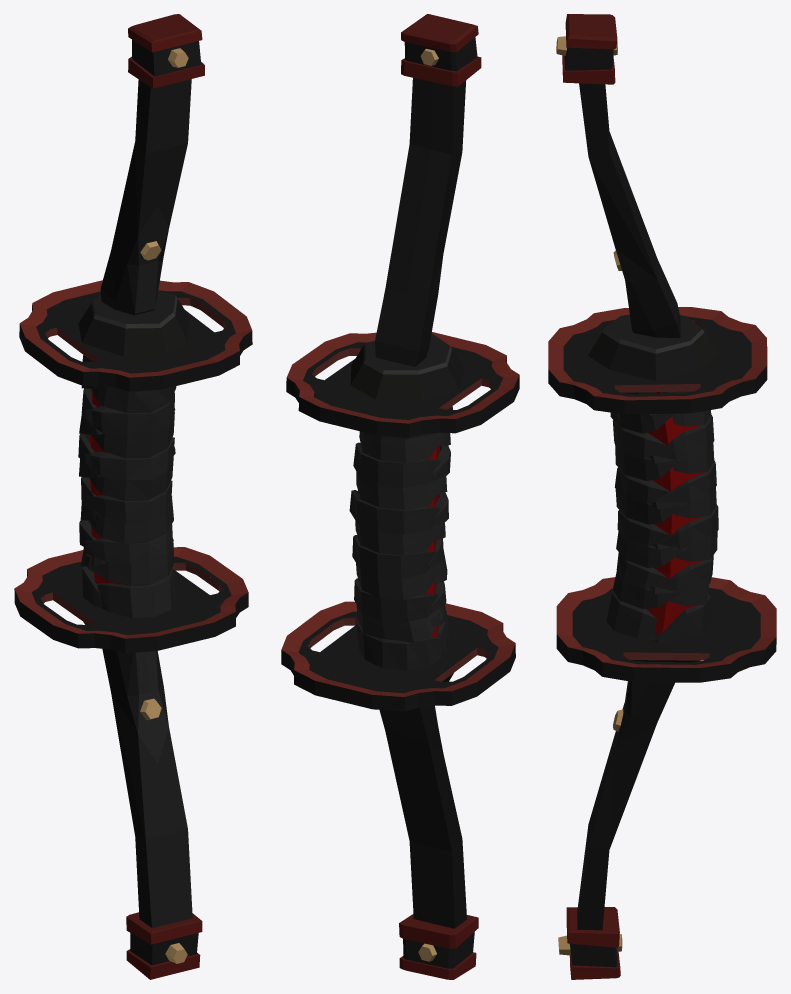
Rendered from smallBowSamuraiSimpleHandle.glb.
3 views of the same model, side by side, from view 1: azimuth 30°, elevation 25°; view 2: azimuth 150°, elevation 25°; view 3: azimuth 270°, elevation 25° (orthographic).
Visible parts, largest first — view 1: smallBowSamuraiSimpleHandle; view 2: smallBowSamuraiSimpleHandle; view 3: smallBowSamuraiSimpleHandle.
Boxes of the visible parts, left/top/right/bottom form: smallBowSamuraiSimpleHandle: left=14, top=14, right=252, bottom=979; smallBowSamuraiSimpleHandle: left=281, top=14, right=519, bottom=979; smallBowSamuraiSimpleHandle: left=548, top=14, right=776, bottom=979.
Bounding box in the file's own units: 0.0836 × 0.3955 × 0.0867.
